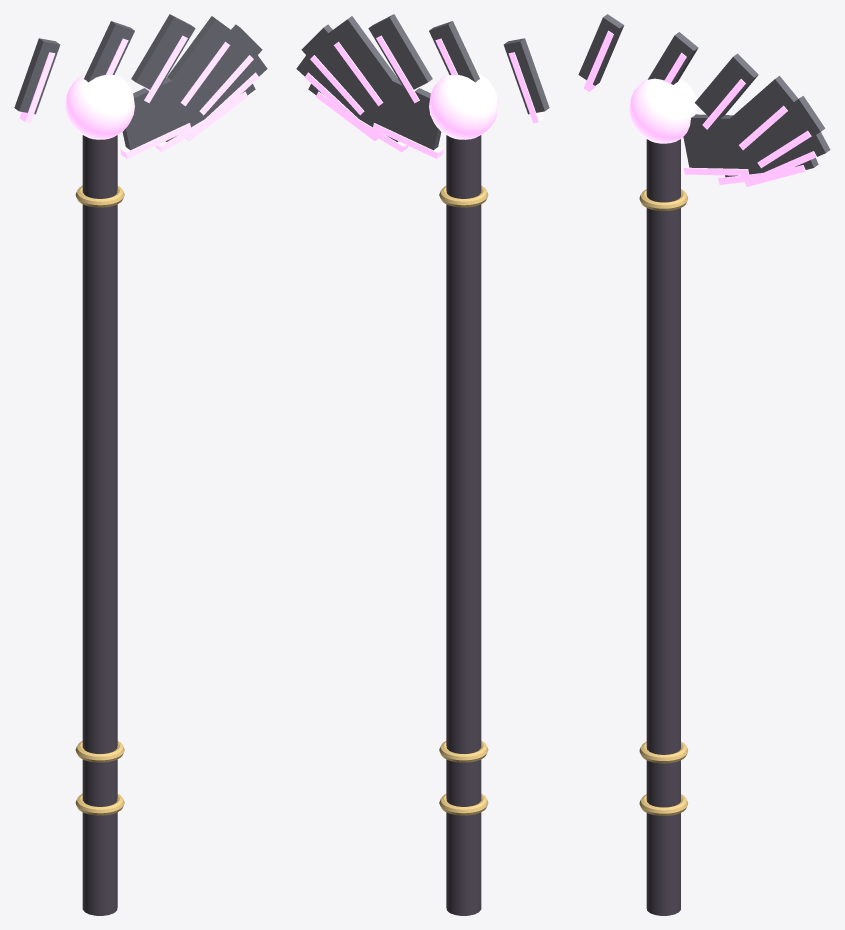
The model's file is guadana_kernel.glb.
3 views of the same model, side by side, from view 1: azimuth 30°, elevation 25°; view 2: azimuth 150°, elevation 25°; view 3: azimuth 330°, elevation 25° (orthographic).
Parts seen in each view (by area): view 1: guadana_kernel; view 2: guadana_kernel; view 3: guadana_kernel.
Boxes of the visible parts, x1,y1,x2,y2 form: guadana_kernel: (14,14,267,915); guadana_kernel: (296,14,549,915); guadana_kernel: (578,14,830,915).
Bounding box in the file's own units: 0.4922 × 1.67 × 0.12.
